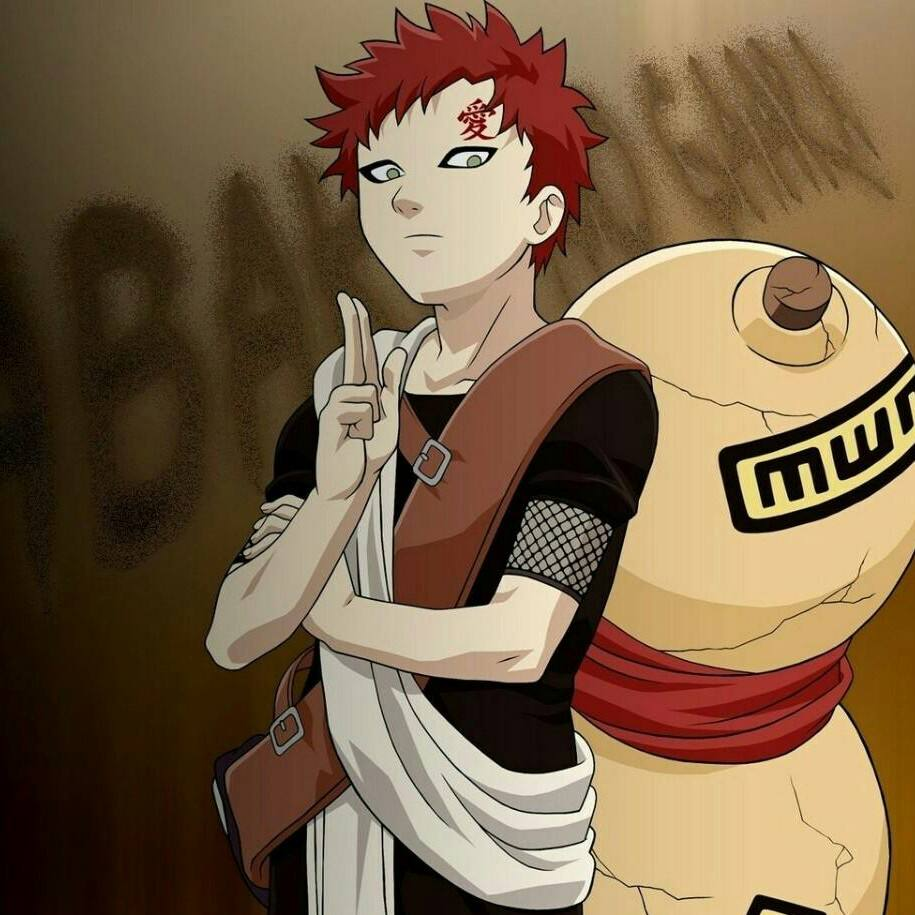gaara: (339, 62, 569, 308)
